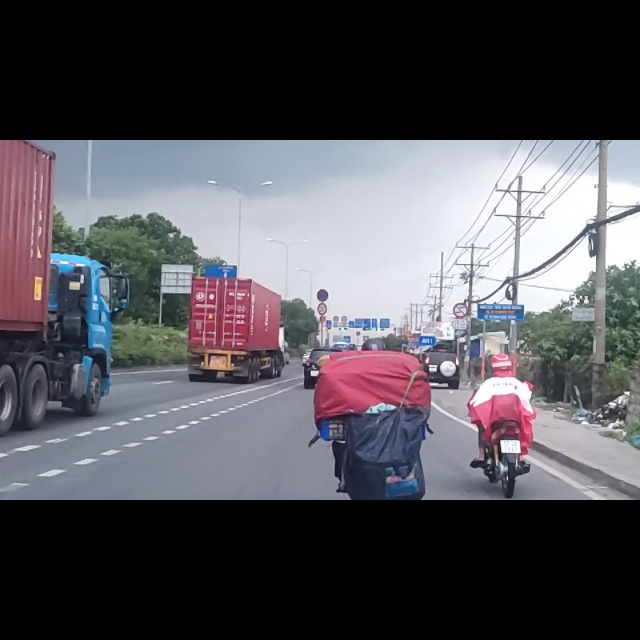bien_chi_dan: (453, 289, 467, 318), (316, 264, 329, 287), (318, 290, 327, 312)
